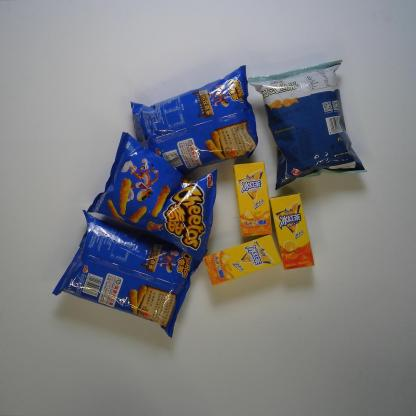Drink: (202, 234, 282, 286), (269, 192, 315, 270), (233, 161, 272, 238)
Puffed Food: (52, 209, 209, 339), (85, 131, 217, 262), (248, 59, 367, 190), (130, 65, 258, 173)
